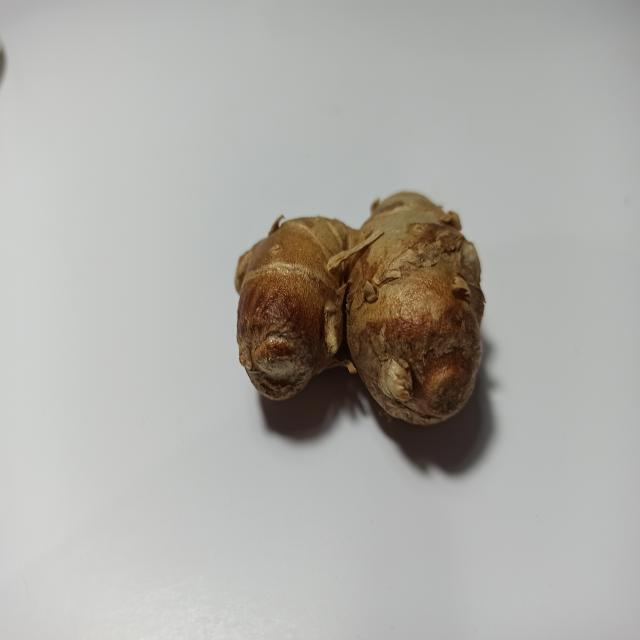ginger: (237, 179, 493, 437)
